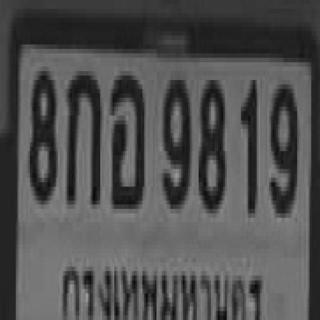A01: (65, 67, 100, 200)
A43: (109, 71, 142, 204)
N01: (239, 76, 255, 209)
N08: (28, 67, 54, 200), (197, 76, 223, 209)
N09: (269, 78, 295, 211), (162, 76, 188, 204)
P04: (53, 249, 266, 320)
